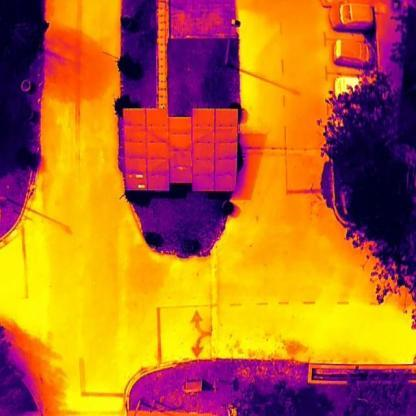anomaly: (134, 174, 145, 179), (138, 184, 147, 189)
